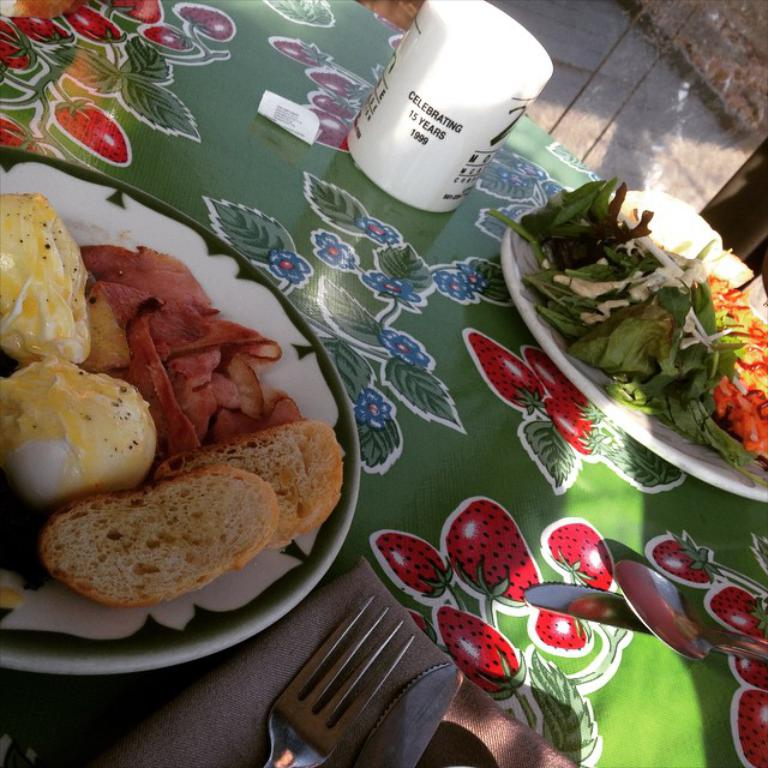salad: (490, 200, 767, 487)
